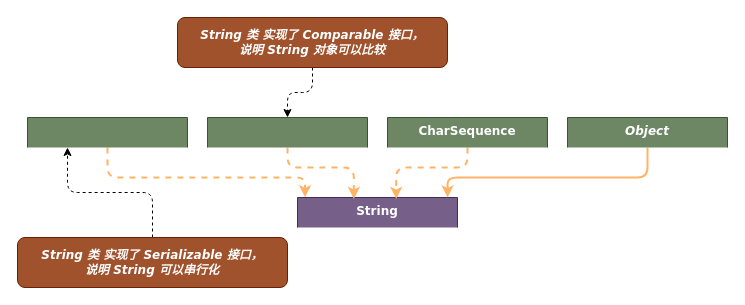
Some shapes in this 745 by 305 pixel diagram are drawn without their labels. Each missing label, with the centre of its shape:
Comparable: (x=287, y=132)
Serializable: (x=107, y=132)
